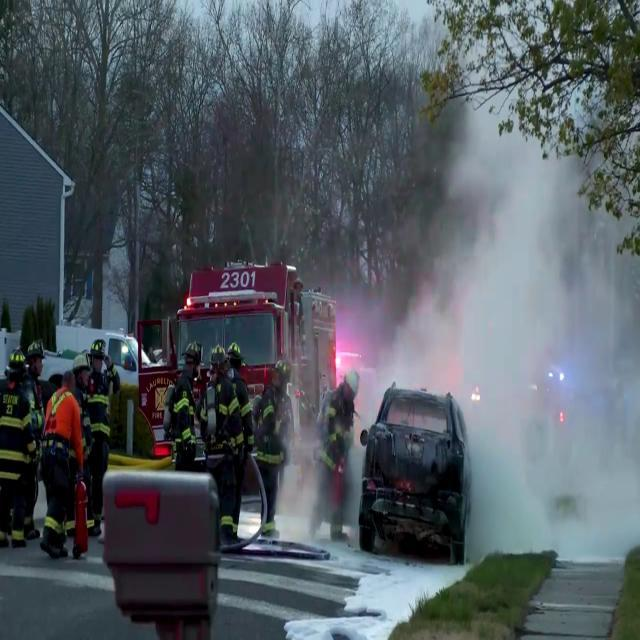Smoke: (345, 74, 640, 562)
